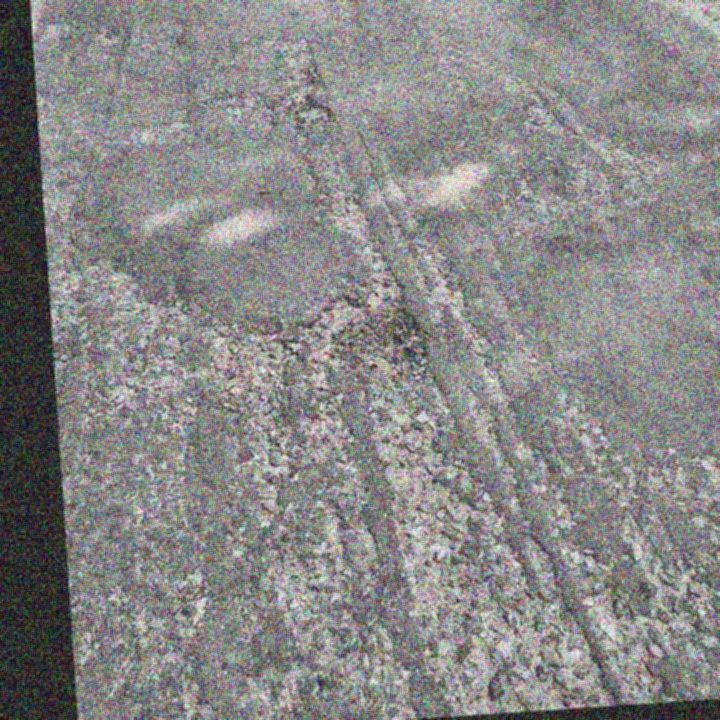pothole: (300, 282, 432, 383), (289, 92, 334, 134)
